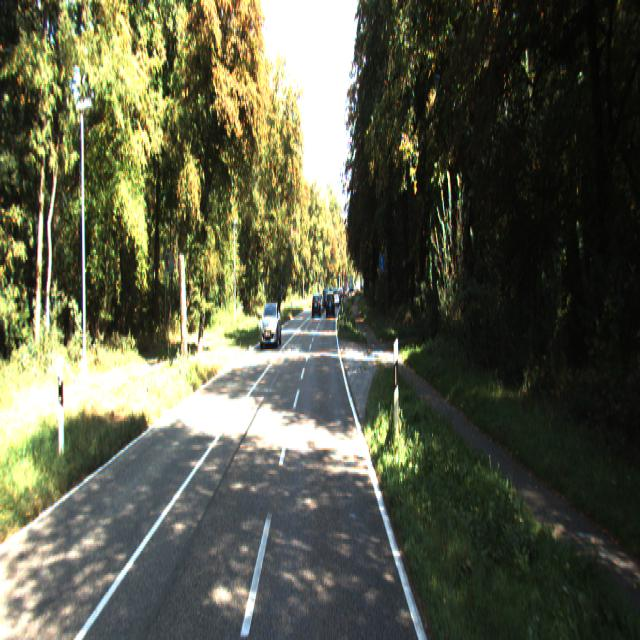Car: (259, 298, 282, 346)
